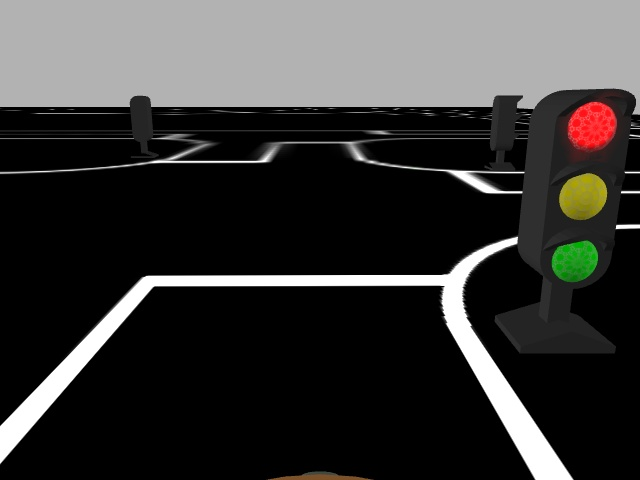red_light: (536, 89, 633, 286)
